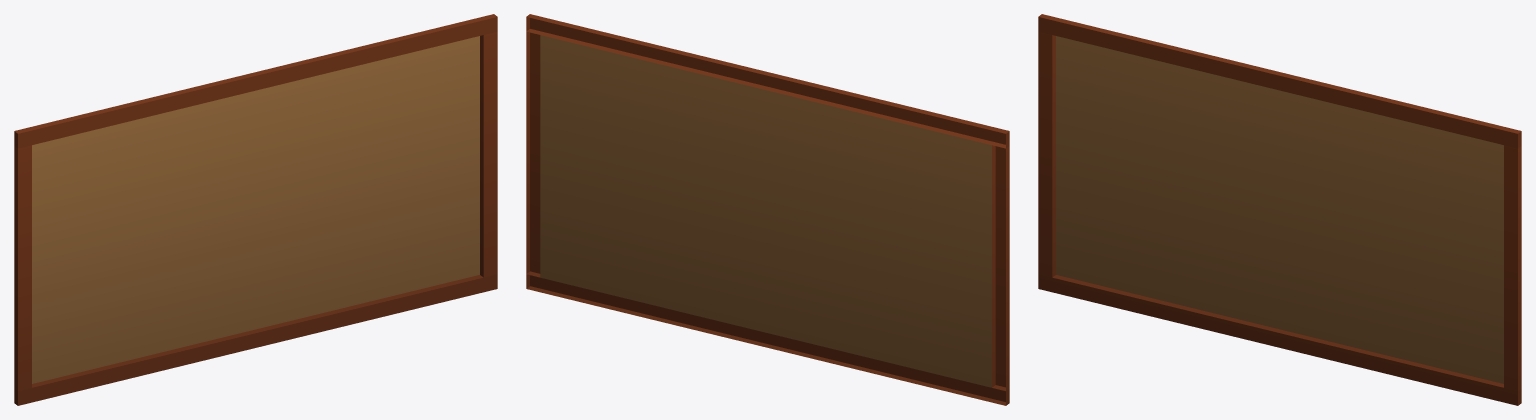
Rendered from Tool_Tool_Wall_01.obj.
3 views of the same model, side by side, from view 1: azimuth 30°, elevation 25°; view 2: azimuth 150°, elevation 25°; view 3: azimuth 330°, elevation 25° (orthographic).
Visible parts, largest first — view 1: Tool_Tool_Wall_01; view 2: Tool_Tool_Wall_01; view 3: Tool_Tool_Wall_01.
Boxes of the visible parts, x1,y1,x2,y2 form: Tool_Tool_Wall_01: (14,14,497,405); Tool_Tool_Wall_01: (526,14,1009,405); Tool_Tool_Wall_01: (1038,14,1521,405).
Bounding box in the file's own units: 1.99 × 1.08 × 0.0277.
1 material, 1 textured.
